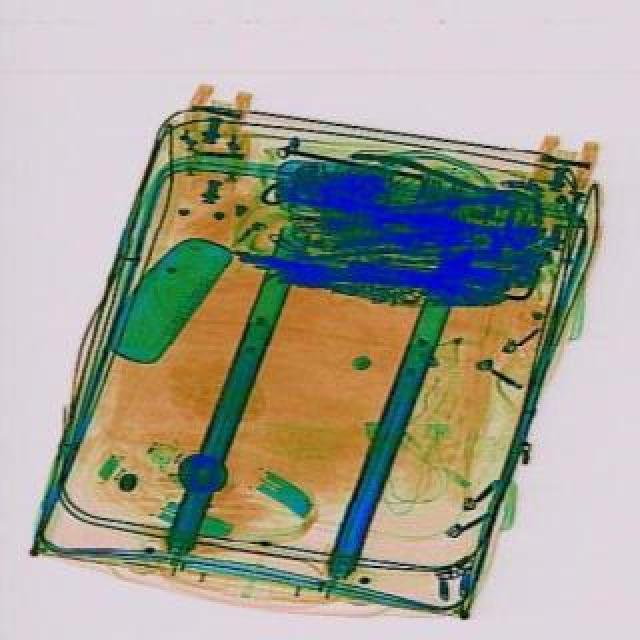wrench: (344, 152, 528, 220)
